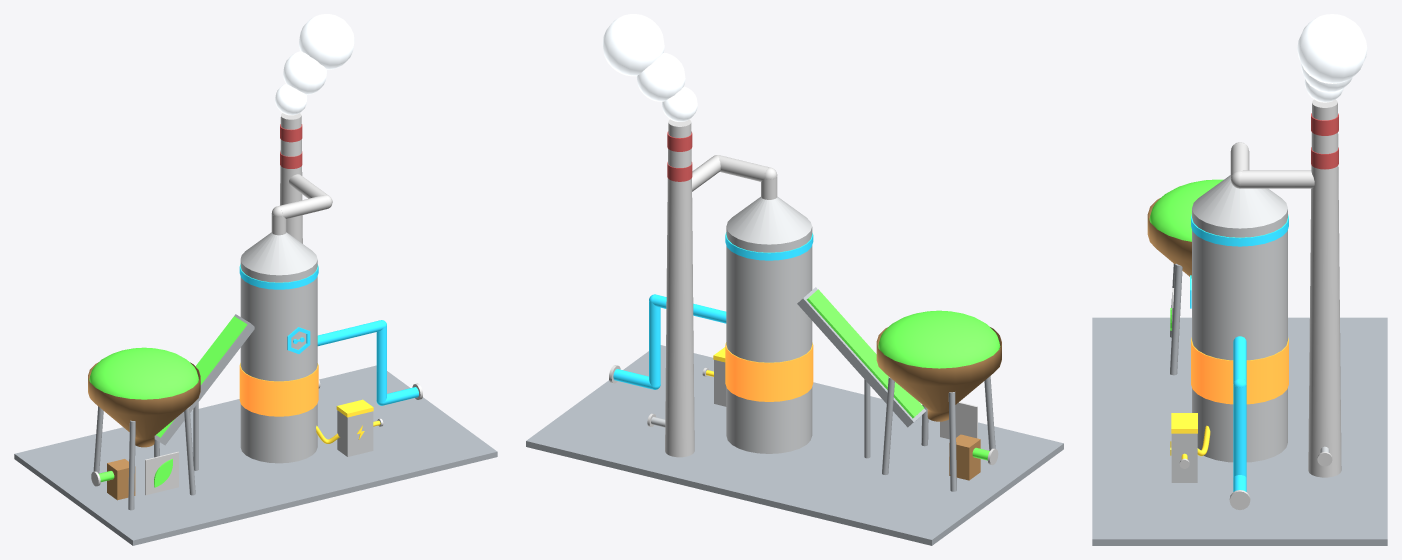
The model's file is Thermolyzer.glb.
The picture shows the model from 3 angles, left to right: view 1: azimuth 30°, elevation 25°; view 2: azimuth 150°, elevation 25°; view 3: azimuth 270°, elevation 25°; orthographic projection. The views are drawn at different scales.
Parts seen in each view (by area): view 1: plinth, reactor, co2_cloud (×3), biomass, hopper, hot_zone, reactor_top, stack, pipe (×2), power_box, conveyor, belt (+5 smaller); view 2: plinth, reactor, stack, co2_cloud (×3), biomass, hopper, hot_zone, reactor_top, belt, conveyor, leg (×2), feed_bin (+4 smaller); view 3: plinth, reactor, stack, co2_cloud (×3), hot_zone, reactor_top, biomass, flue (×2), pipe (×2), band (×2), power_box, hopper (+2 smaller).
Part boxes in pixels (box(x1,y1,x2,y2)): plinth: box(14, 365, 497, 545); reactor: box(240, 260, 317, 463); co2_cloud (×3): box(275, 14, 354, 115); biomass: box(89, 347, 198, 399); hopper: box(88, 362, 200, 447); hot_zone: box(239, 363, 318, 416); reactor_top: box(240, 232, 317, 275); stack: box(280, 113, 302, 243); pipe (×2): box(317, 320, 386, 402); power_box: box(337, 410, 373, 456); conveyor: box(154, 314, 254, 445); belt: box(156, 316, 247, 437); plinth: box(526, 345, 1063, 545); reactor: box(726, 227, 812, 453); stack: box(665, 119, 694, 457); co2_cloud (×3): box(602, 14, 697, 121); biomass: box(878, 310, 1000, 368); hopper: box(876, 327, 1001, 421); hot_zone: box(725, 342, 813, 401); reactor_top: box(726, 196, 811, 244); belt: box(806, 289, 924, 418); conveyor: box(797, 287, 926, 427); leg (×2): box(882, 377, 956, 491); feed_bin: box(949, 434, 980, 480); plinth: box(1092, 317, 1387, 545); reactor: box(1192, 209, 1287, 462); stack: box(1308, 99, 1341, 477); co2_cloud (×3): box(1297, 14, 1367, 102); hot_zone: box(1191, 337, 1288, 404); reactor_top: box(1192, 175, 1287, 228); biomass: box(1149, 179, 1223, 241); flue (×2): box(1230, 143, 1314, 188); pipe (×2): box(1233, 336, 1246, 477); band (×2): box(1171, 214, 1288, 433); power_box: box(1171, 433, 1197, 482); hopper: box(1147, 198, 1191, 278).
Size of the model in its own units: 14.2 by 14.45 by 8.
